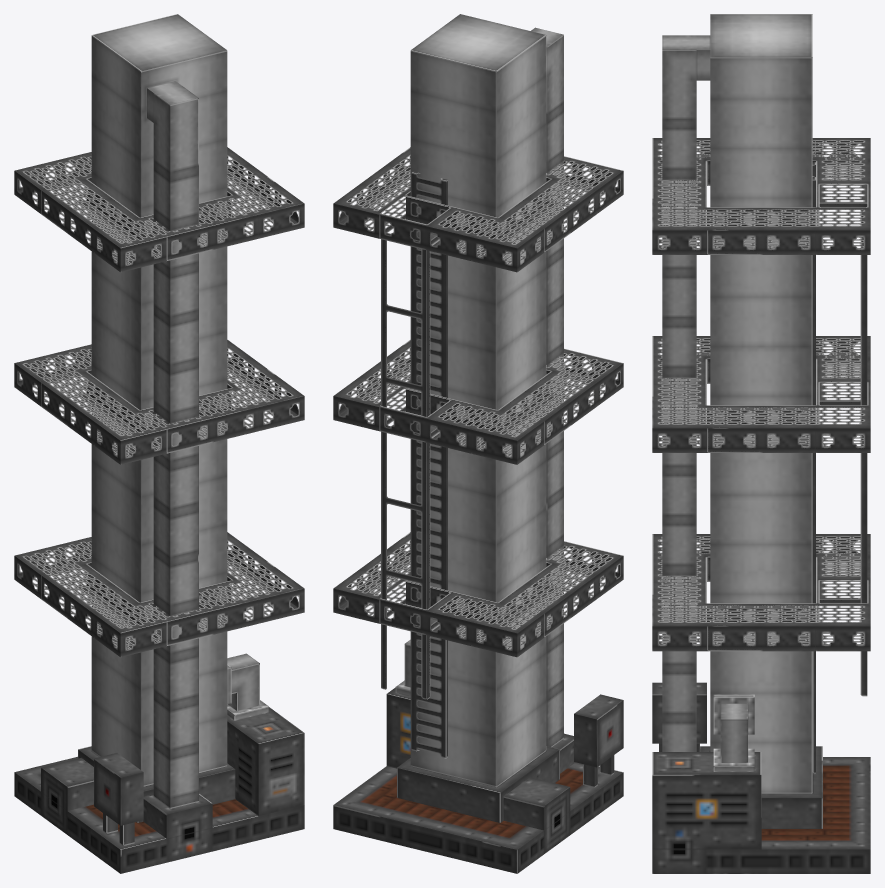
The model's file is distillationtower.obj.
3 renders of one model, left to right at view 1: azimuth 30°, elevation 25°; view 2: azimuth 150°, elevation 25°; view 3: azimuth 270°, elevation 25°, orthographic. The views are drawn at different scales.
Visible parts, largest first — view 1: distillationtower_normal; view 2: distillationtower_normal; view 3: distillationtower_normal.
Boxes of the visible parts, x1,y1,x2,y2 form: distillationtower_normal: (14, 14, 304, 873); distillationtower_normal: (333, 14, 623, 873); distillationtower_normal: (652, 14, 870, 873).
Size of the model in its own units: 4 by 16 by 4.
